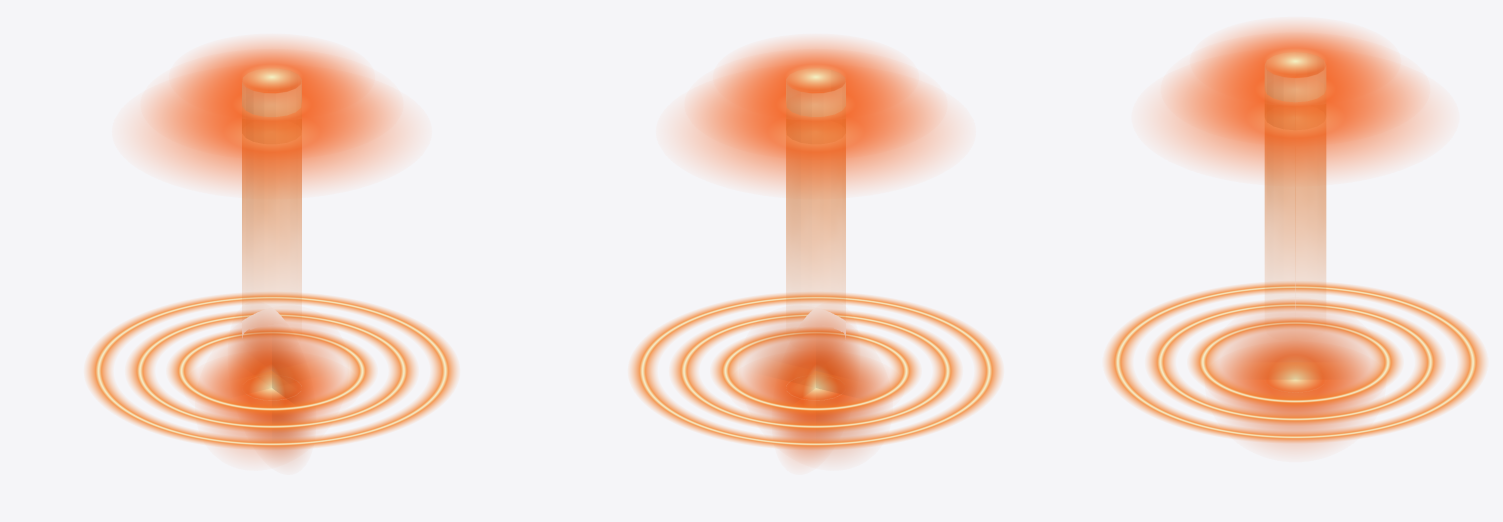
The model's file is fx_nuke.glb.
3 views of the same model, side by side, from view 1: azimuth 30°, elevation 25°; view 2: azimuth 150°, elevation 25°; view 3: azimuth 270°, elevation 25° (orthographic). The views are drawn at different scales.
Visible parts, largest first — view 1: fx_nuke_fire, fx_nuke_shock, fx_nuke_column; view 2: fx_nuke_fire, fx_nuke_shock, fx_nuke_column; view 3: fx_nuke_fire, fx_nuke_shock, fx_nuke_column.
Boxes of the visible parts, x1=… form: fx_nuke_fire: x1=138, y1=41, x2=405, y2=463; fx_nuke_shock: x1=86, y1=293, x2=457, y2=448; fx_nuke_column: x1=242, y1=69, x2=301, y2=400; fx_nuke_fire: x1=682, y1=41, x2=949, y2=463; fx_nuke_shock: x1=630, y1=293, x2=1001, y2=448; fx_nuke_column: x1=786, y1=68, x2=845, y2=400; fx_nuke_fire: x1=1158, y1=24, x2=1432, y2=448; fx_nuke_shock: x1=1105, y1=282, x2=1485, y2=442; fx_nuke_column: x1=1264, y1=52, x2=1326, y2=392.
Bounding box in the file's own units: 1 × 1.16 × 1.
Materials: 3 (3 with a texture image).
